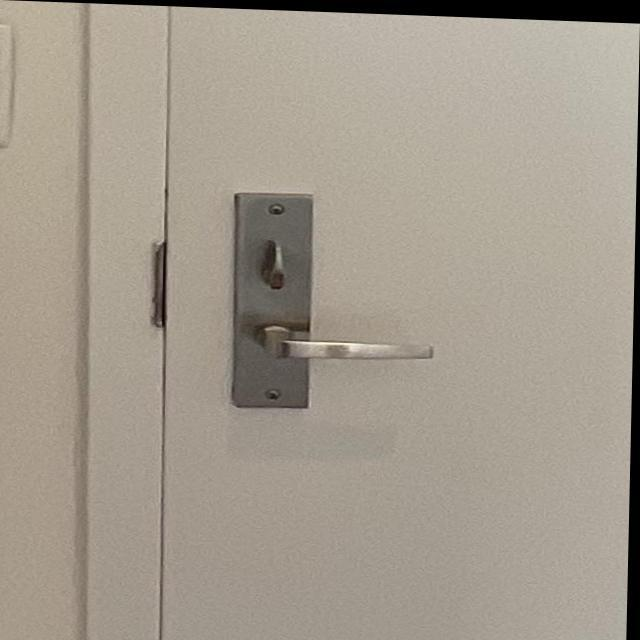door_handle: (239, 313, 456, 380)
